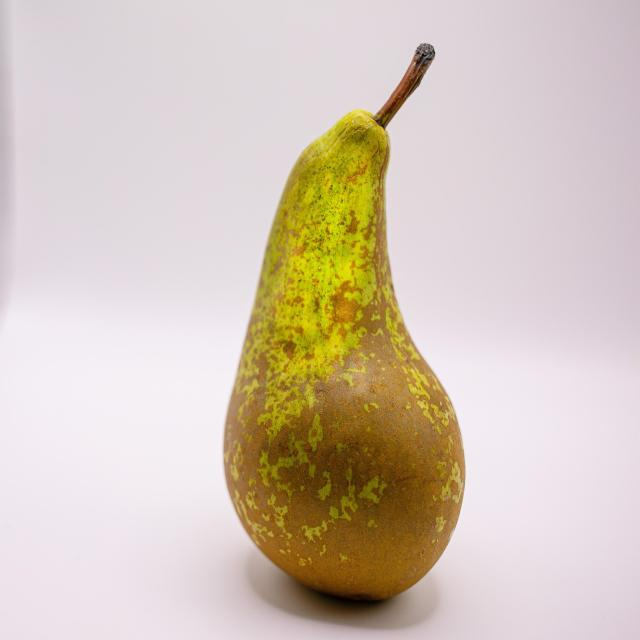pera: (204, 35, 494, 621)
